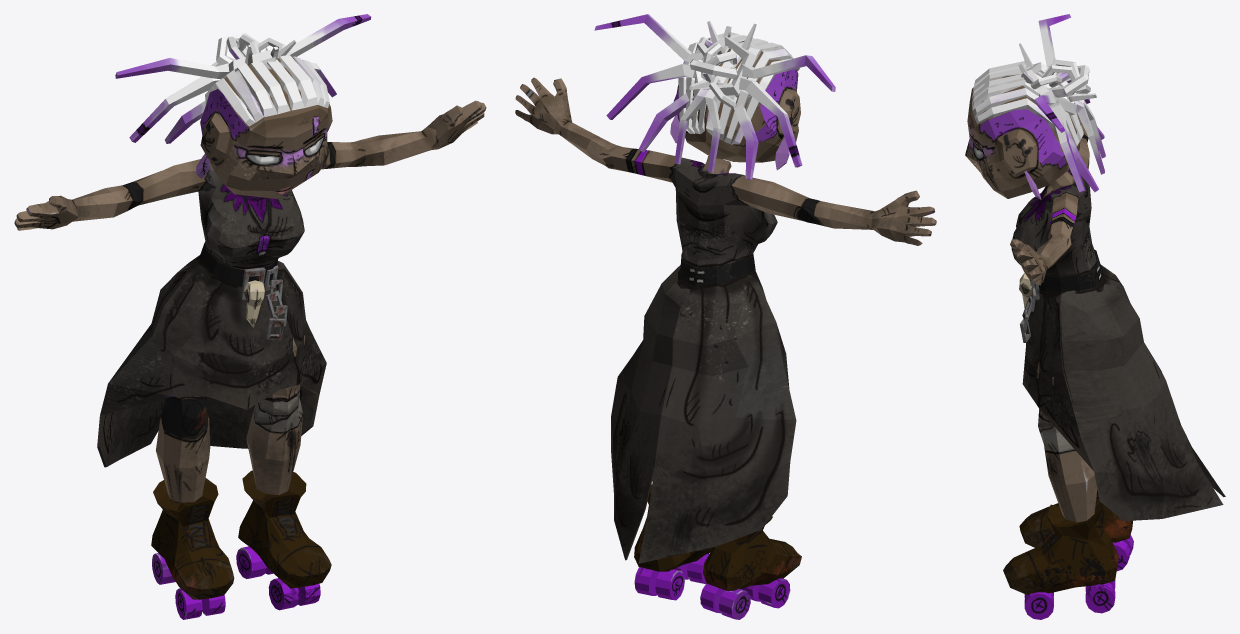
File: bruja_000110.obj
3 views of the same model, side by side, from view 1: azimuth 30°, elevation 25°; view 2: azimuth 150°, elevation 25°; view 3: azimuth 270°, elevation 25° (orthographic). The views are drawn at different scales.
Parts seen in each view (by area): view 1: Bruja_Plane.001; view 2: Bruja_Plane.001; view 3: Bruja_Plane.001.
Part boxes in pixels (bbox=[...]): Bruja_Plane.001: bbox=[14, 14, 486, 619]; Bruja_Plane.001: bbox=[515, 14, 936, 619]; Bruja_Plane.001: bbox=[965, 14, 1225, 619].
Size of the model in its own units: 13.38 by 16.51 by 7.19.
